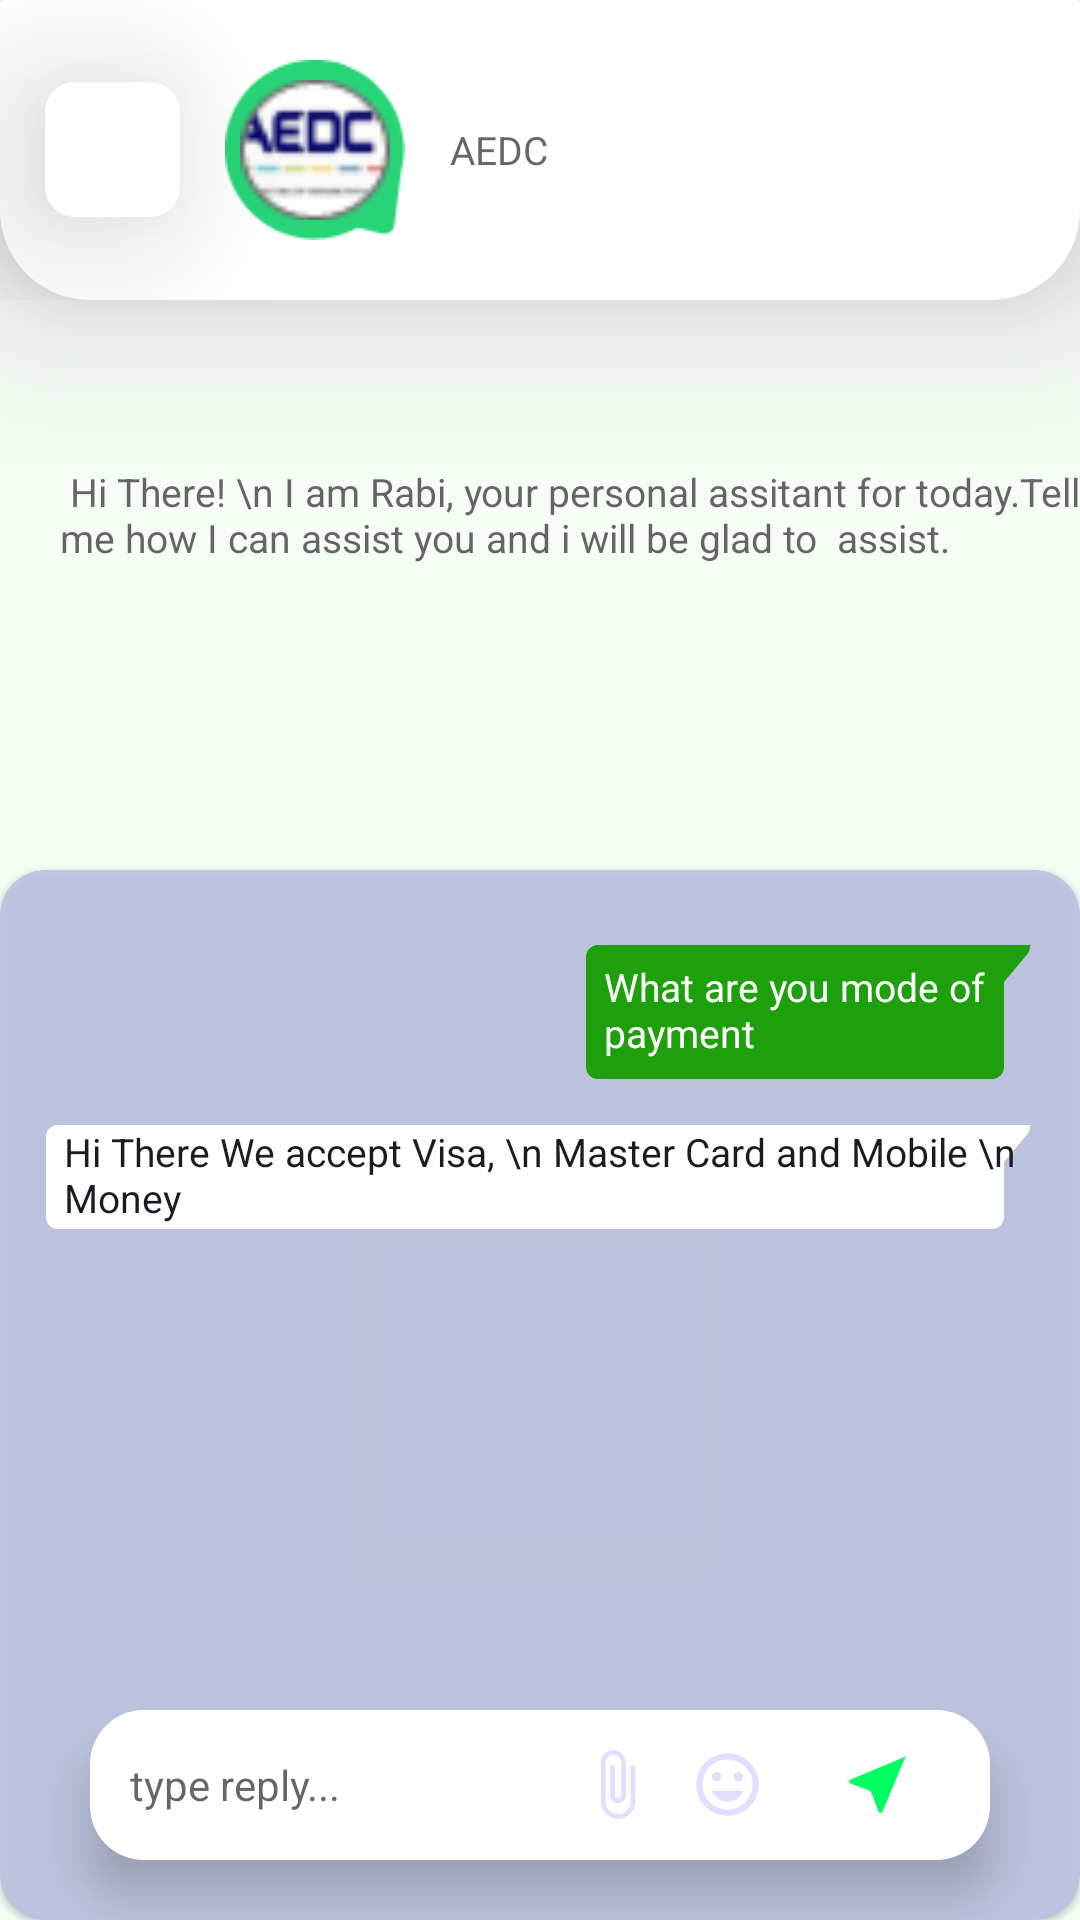

Where to tap for icons on this 1080px×1920px app screen, as (x,y):
attach file: (618,1784)
emoticon: (727,1784)
near me: (877,1784)
